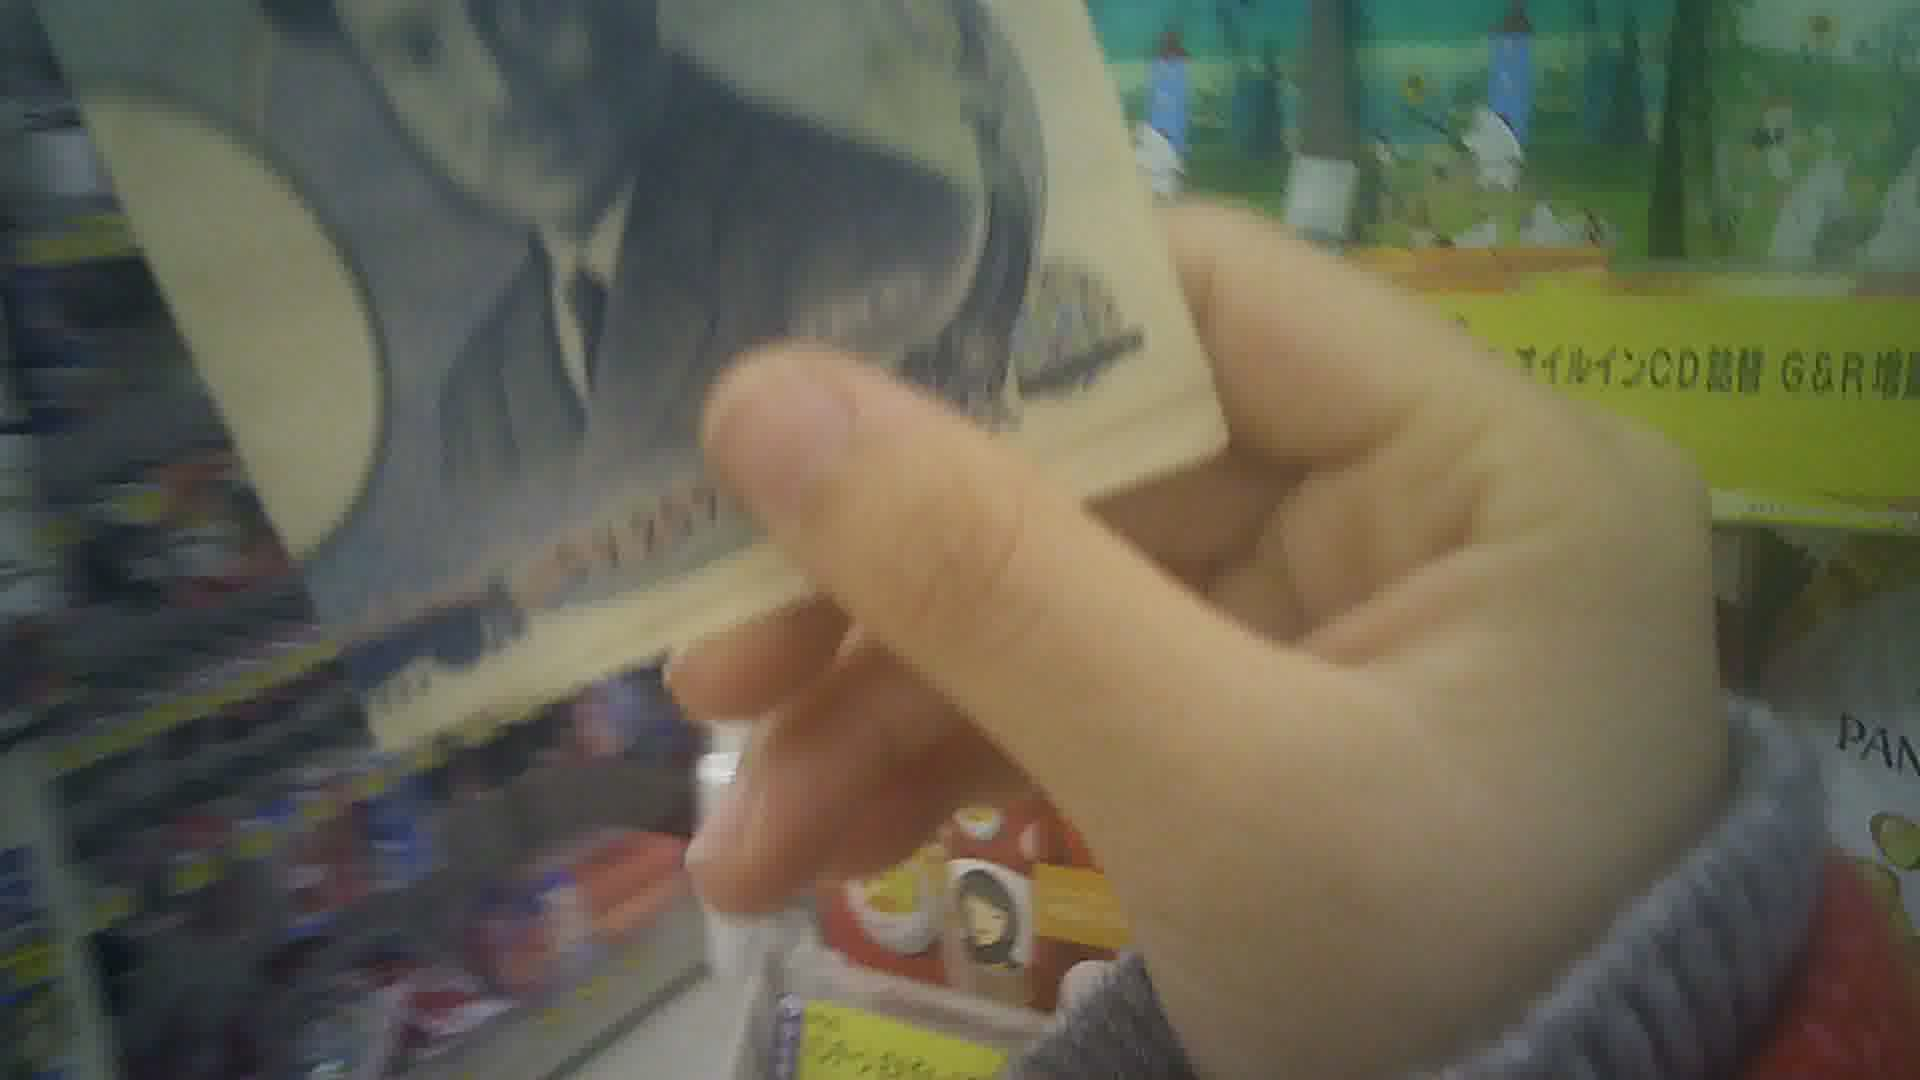1,000 Yen: (42, 3, 1276, 812)
